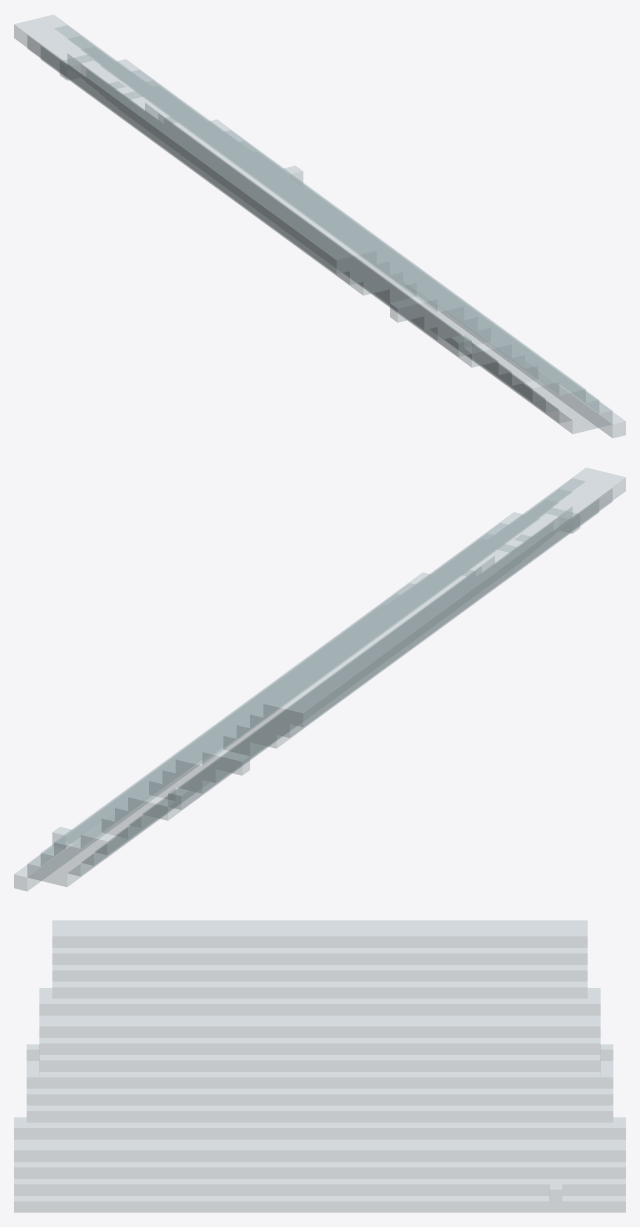
The model's file is luxury_saloon_windscreen.glb.
The picture shows the model from 3 angles, top to bottom: view 1: azimuth 30°, elevation 25°; view 2: azimuth 150°, elevation 25°; view 3: azimuth 270°, elevation 25°; orthographic projection. The views are drawn at different scales.
Visible parts, largest first — view 1: body:compound; view 2: body:compound; view 3: body:compound.
Boxes of the visible parts, x1=… form: body:compound: x1=14, y1=15, x2=625, y2=437; body:compound: x1=14, y1=468, x2=625, y2=890; body:compound: x1=14, y1=920, x2=625, y2=1212.
Bounding box in the file's own units: 0.625 × 0.5 × 1.5.
